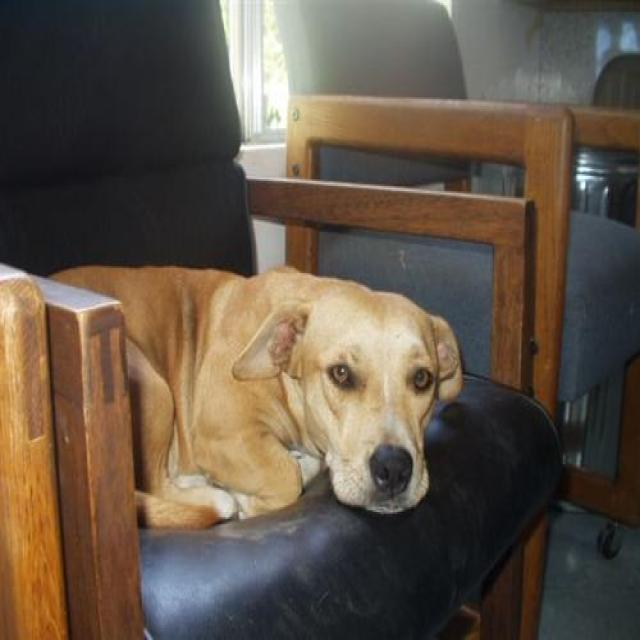Dogs: (46, 261, 463, 531)
